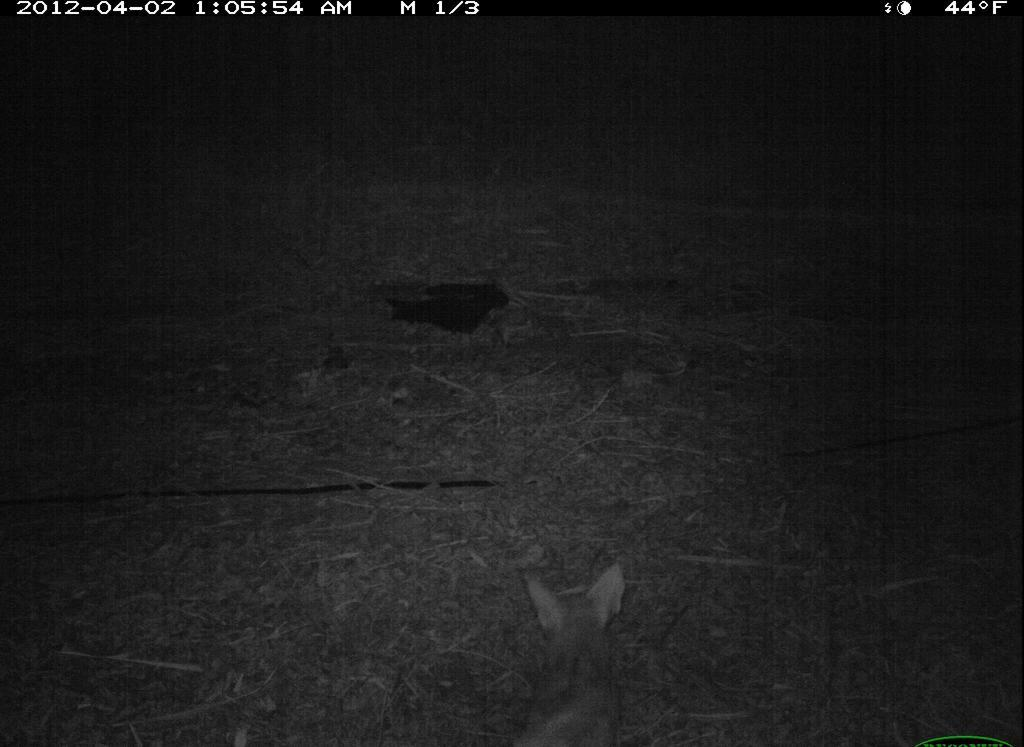coyote: (494, 552, 649, 747)
